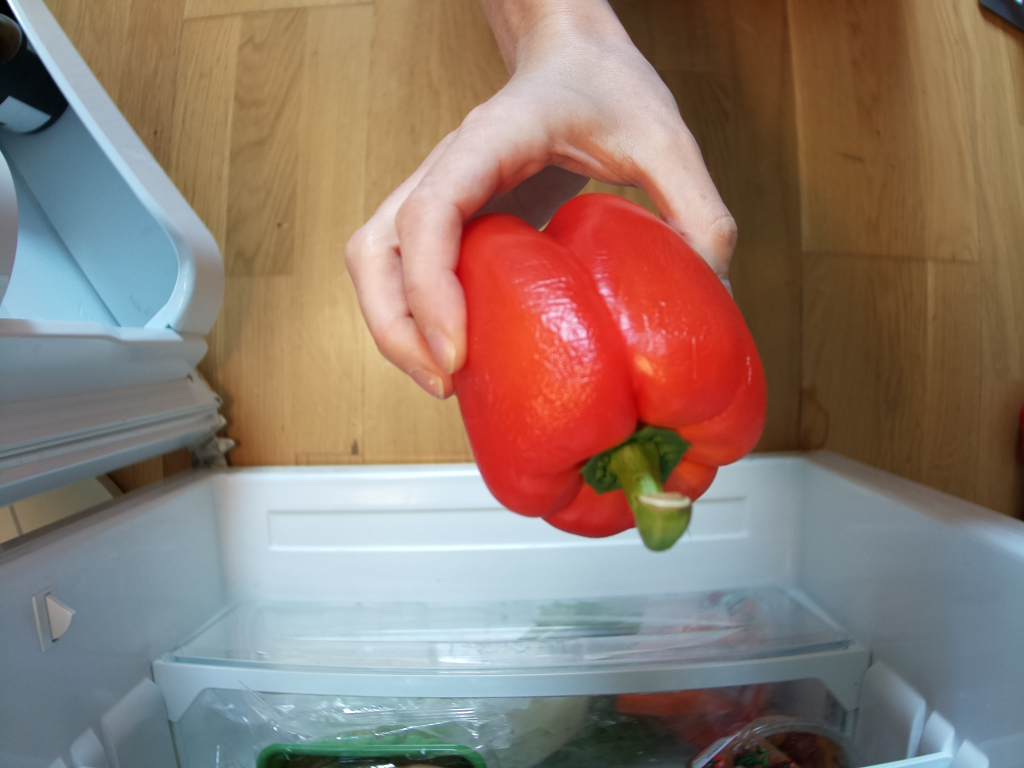pepper-bad: (425, 176, 780, 572)
